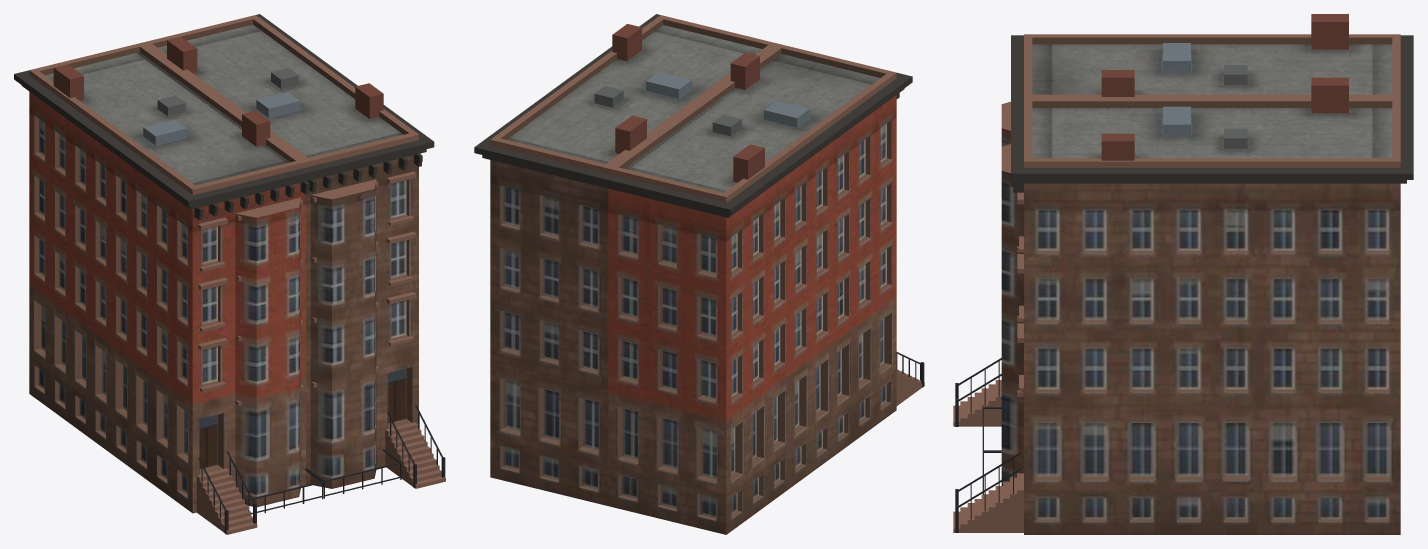
File: nyc_brownstone_b.glb
The picture shows the model from 3 angles, left to right: view 1: azimuth 30°, elevation 25°; view 2: azimuth 150°, elevation 25°; view 3: azimuth 270°, elevation 25°; orthographic projection. The views are drawn at different scales.
Visible parts, largest first — view 1: nyc_brownstone_b; view 2: nyc_brownstone_b; view 3: nyc_brownstone_b.
Part boxes in pixels (left/top/right/bottom): nyc_brownstone_b: left=14, top=14, right=445, bottom=534; nyc_brownstone_b: left=474, top=14, right=924, bottom=534; nyc_brownstone_b: left=953, top=14, right=1413, bottom=534.
Bounding box in the file's own units: 13.9 × 18.5 × 19.55.
Materials: 1 (1 with a texture image).
